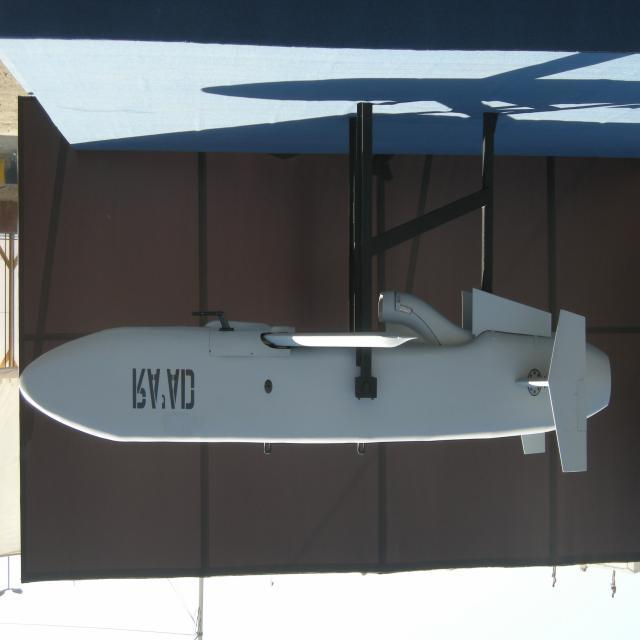missile: (6, 295, 617, 467)
